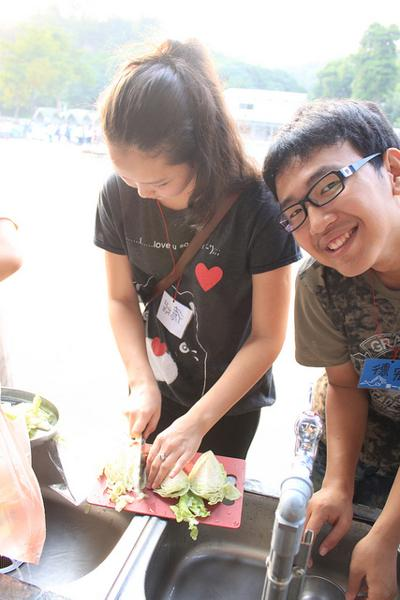person: (96, 40, 302, 466)
